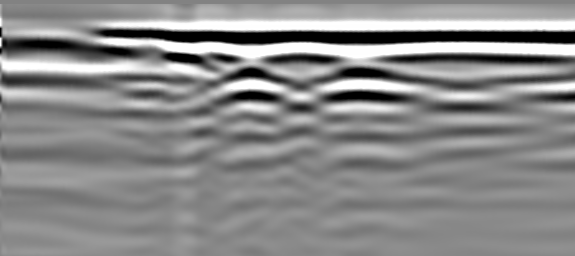pipe: (3, 22, 119, 54)
